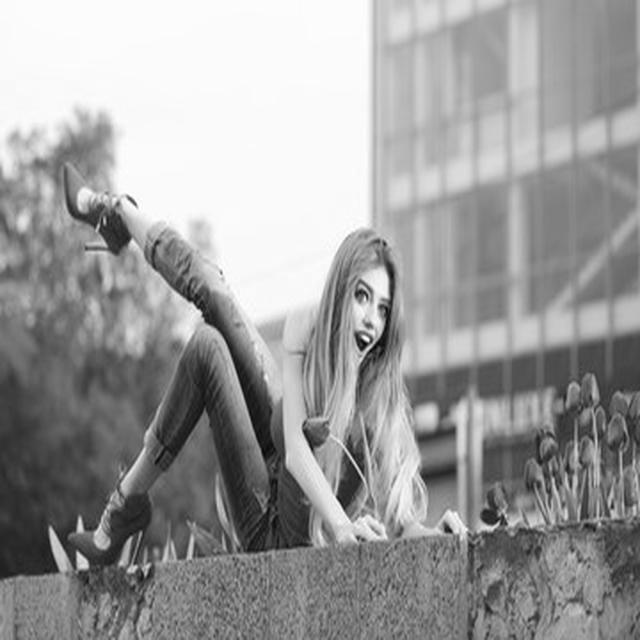Surprised: (340, 264, 389, 371)
